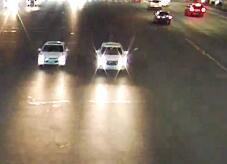car: (94, 41, 129, 71), (37, 39, 69, 66), (185, 2, 207, 16), (152, 9, 173, 23), (147, 0, 163, 9), (25, 0, 40, 9)
